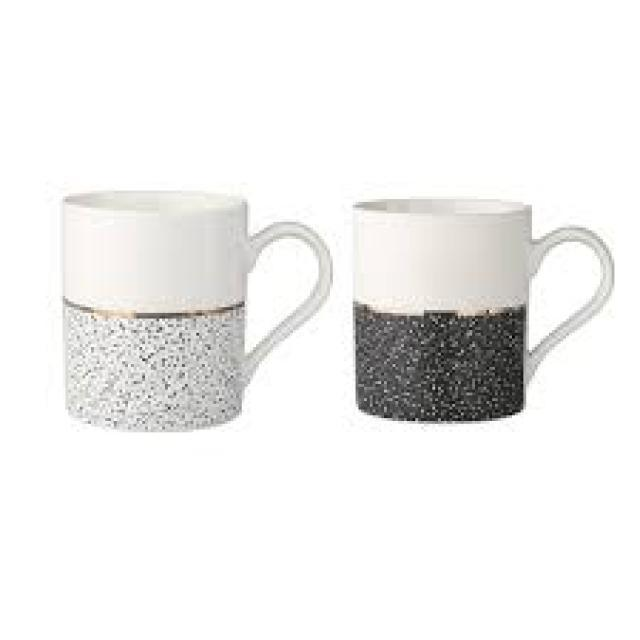taza: (46, 183, 334, 439), (342, 180, 624, 434)
